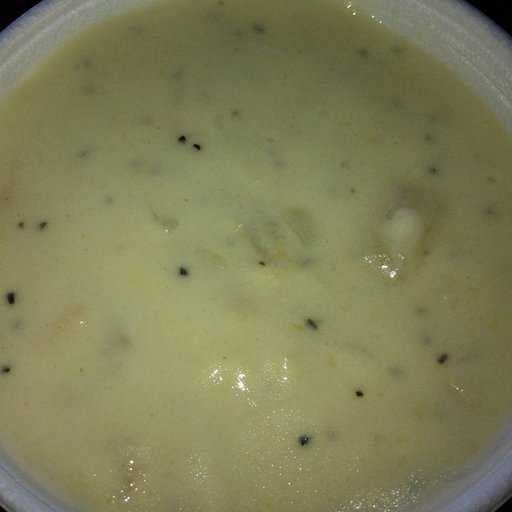soup: (13, 30, 487, 508)
